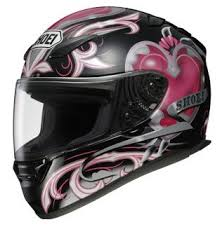helmet: (7, 5, 218, 220)
